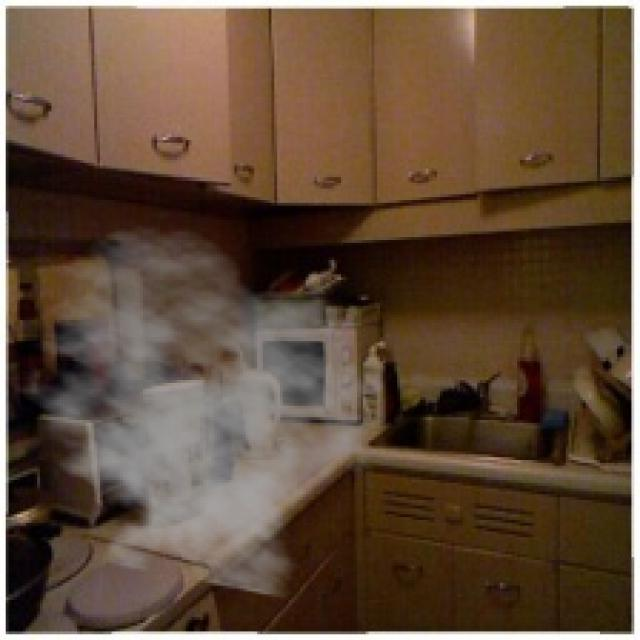smoke: (0, 223, 392, 601)
